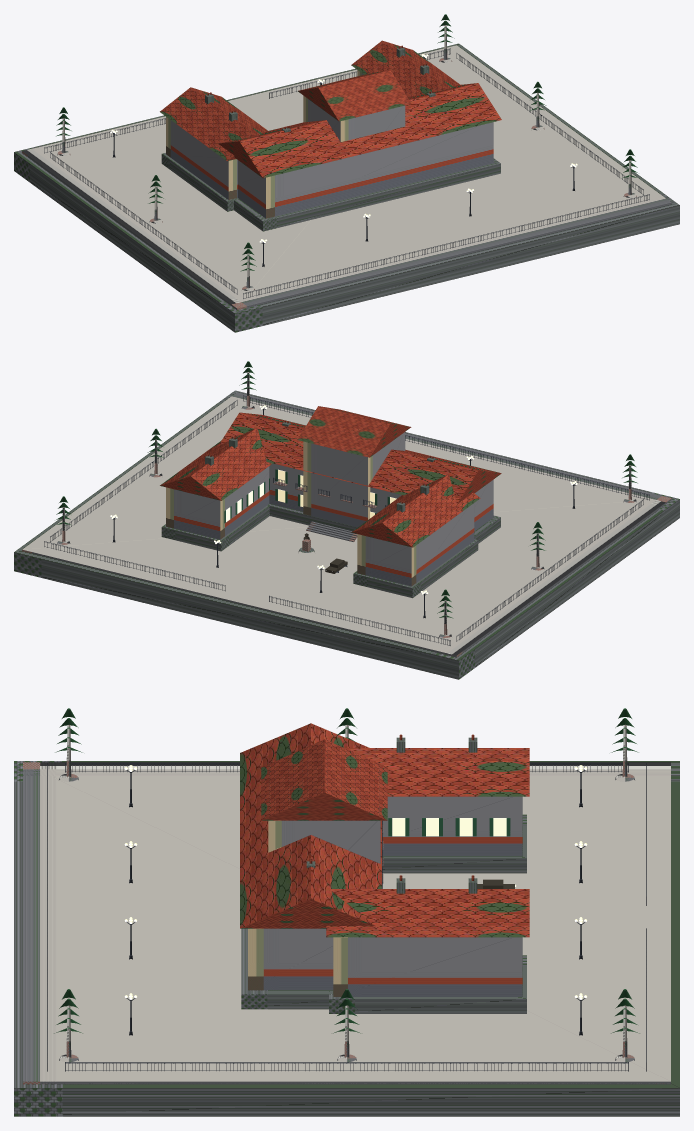
File: ultra_lm_27_vien_pasteur_da_lat.glb
3 renders of one model, top to bottom at view 1: azimuth 30°, elevation 25°; view 2: azimuth 150°, elevation 25°; view 3: azimuth 270°, elevation 25°, orthographic. The views are drawn at different scales.
Visible parts, largest first — view 1: Pasteur1936_HonorCourtyard_GraniteSteps_And_WormBrick, Pasteur1936_SplitStone_Basement_Chimneys_And_Skirt, Pasteur1936_Marseille_Terracotta_Roofs_And_Pots, Pasteur1936_Neoclassical_UShape_Ochre_Stucco_Walls, Pasteur1936_3DWroughtIron_Balconies_And_Streetlamps, Pasteur1936_Yersin_Medicinal_Herb_And_Pine_Gardens; view 2: Pasteur1936_HonorCourtyard_GraniteSteps_And_WormBrick, Pasteur1936_SplitStone_Basement_Chimneys_And_Skirt, Pasteur1936_Marseille_Terracotta_Roofs_And_Pots, Pasteur1936_Neoclassical_UShape_Ochre_Stucco_Walls, Pasteur1936_3DWroughtIron_Balconies_And_Streetlamps, Pasteur1936_Yersin_Medicinal_Herb_And_Pine_Gardens, VaccineLab_FrenchWindows_Blend085, Pasteur1936_Heritage_Green_Wooden_Louver_Shutters; view 3: Pasteur1936_HonorCourtyard_GraniteSteps_And_WormBrick, Pasteur1936_Marseille_Terracotta_Roofs_And_Pots, Pasteur1936_SplitStone_Basement_Chimneys_And_Skirt, Pasteur1936_Neoclassical_UShape_Ochre_Stucco_Walls, Pasteur1936_3DWroughtIron_Balconies_And_Streetlamps, Pasteur1936_Yersin_Medicinal_Herb_And_Pine_Gardens, VaccineLab_FrenchWindows_Blend085, Pasteur1936_Heritage_Green_Wooden_Louver_Shutters.
Part boxes in pixels (box(x1,y1,x2,y2)): Pasteur1936_HonorCourtyard_GraniteSteps_And_WormBrick: box(22, 25, 671, 310); Pasteur1936_SplitStone_Basement_Chimneys_And_Skirt: box(14, 43, 679, 332); Pasteur1936_Marseille_Terracotta_Roofs_And_Pots: box(160, 40, 501, 178); Pasteur1936_Neoclassical_UShape_Ochre_Stucco_Walls: box(166, 70, 493, 218); Pasteur1936_3DWroughtIron_Balconies_And_Streetlamps: box(44, 48, 649, 298); Pasteur1936_Yersin_Medicinal_Herb_And_Pine_Gardens: box(56, 14, 637, 271); Pasteur1936_HonorCourtyard_GraniteSteps_And_WormBrick: box(22, 372, 671, 657); Pasteur1936_SplitStone_Basement_Chimneys_And_Skirt: box(14, 390, 679, 679); Pasteur1936_Marseille_Terracotta_Roofs_And_Pots: box(160, 406, 501, 547); Pasteur1936_Neoclassical_UShape_Ochre_Stucco_Walls: box(166, 432, 493, 586); Pasteur1936_3DWroughtIron_Balconies_And_Streetlamps: box(44, 395, 649, 645); Pasteur1936_Yersin_Medicinal_Herb_And_Pine_Gardens: box(56, 361, 637, 618); VaccineLab_FrenchWindows_Blend085: box(226, 469, 396, 521); Pasteur1936_Heritage_Green_Wooden_Louver_Shutters: box(224, 469, 389, 523); Pasteur1936_HonorCourtyard_GraniteSteps_And_WormBrick: box(23, 724, 670, 1084); Pasteur1936_Marseille_Terracotta_Roofs_And_Pots: box(240, 723, 529, 937); Pasteur1936_SplitStone_Basement_Chimneys_And_Skirt: box(14, 737, 679, 1116); Pasteur1936_Neoclassical_UShape_Ochre_Stucco_Walls: box(248, 796, 522, 996); Pasteur1936_3DWroughtIron_Balconies_And_Streetlamps: box(47, 763, 646, 1071); Pasteur1936_Yersin_Medicinal_Herb_And_Pine_Gardens: box(54, 708, 639, 1033); VaccineLab_FrenchWindows_Blend085: box(392, 818, 506, 836); Pasteur1936_Heritage_Green_Wooden_Louver_Shutters: box(388, 818, 510, 836).
Bounding box in the file's own units: 86 × 22.95 × 74.
Materials: 10 (4 with a texture image).
